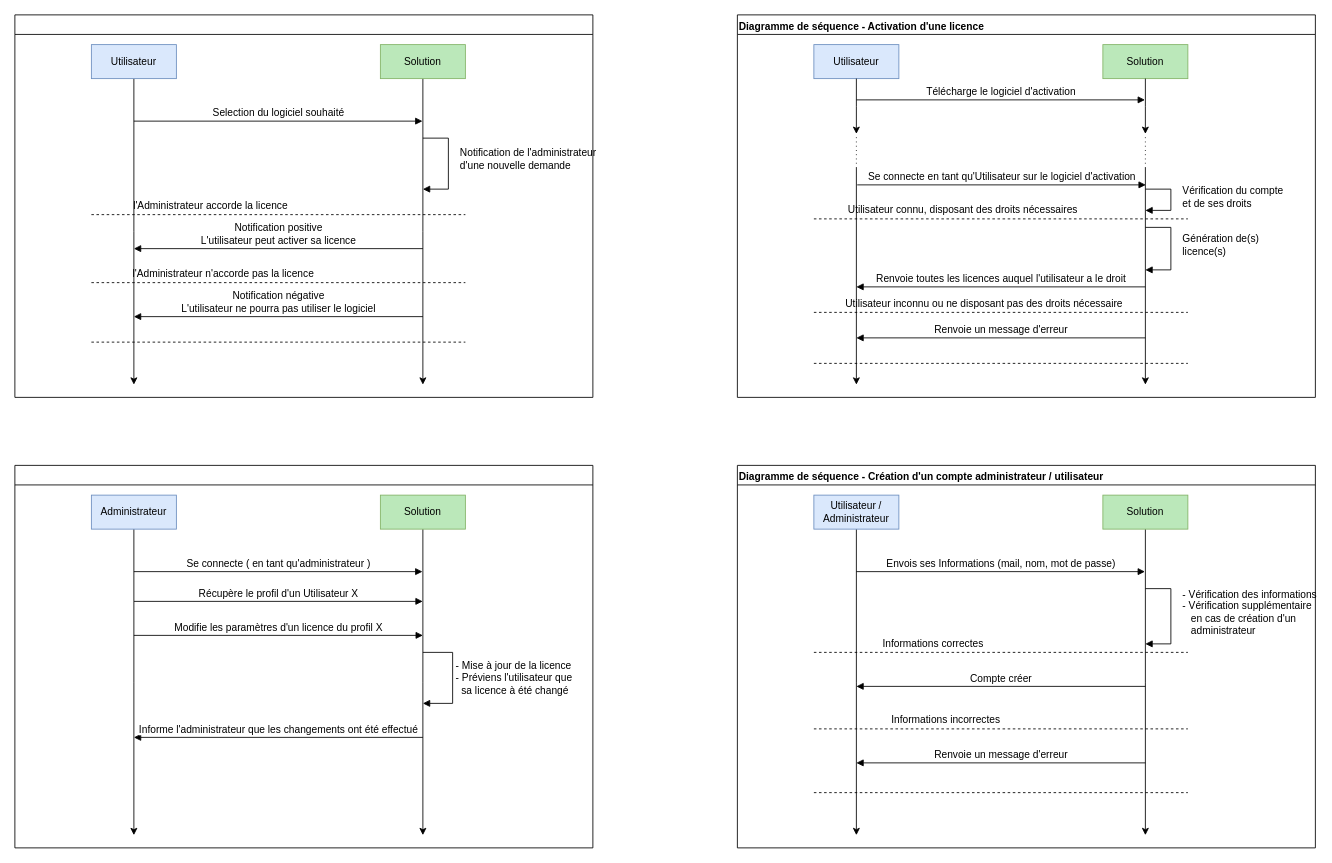
This 1332x863 diagram has some shape labels left out. The shapes that lost their labels are listed below. From the top down, each one's centre as x and y in pixels, then its label:
At point 303,205: "Diagramme de séquence - Demande d'une Licence".
At point 303,656: "Diagramme de séquence - Paramétrage d'une licence".
